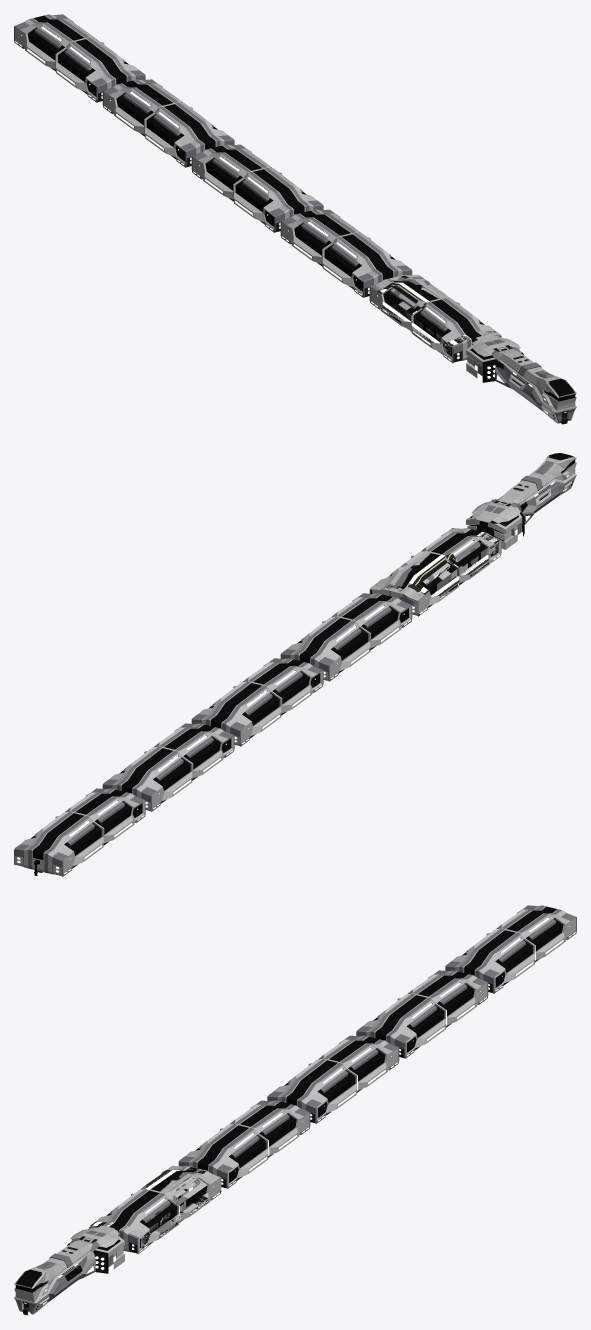
Rendered from TTrrain11.fbx.
3 views of the same model, one above another, from view 1: azimuth 30°, elevation 25°; view 2: azimuth 150°, elevation 25°; view 3: azimuth 330°, elevation 25° (orthographic).
Visible parts, largest first — view 1: Cube.023, Cube.035, Cube.024, Cube.034, Cube.039, Cube.022, Cube.002, Cube.008; view 2: Cube.034, Cube.024, Cube.035, Cube.023, Cube.022, Cube.039, Cube.002, Cube.014, Cube.008, Cube.010; view 3: Cube.023, Cube.035, Cube.024, Cube.034, Cube.039, Cube.022, Cube.002, Cube.008.
Boxes of the visible parts, x1,y1,x2,y2 form: Cube.023: [280, 209, 412, 297]; Cube.035: [102, 79, 234, 167]; Cube.024: [191, 144, 323, 232]; Cube.034: [14, 14, 145, 102]; Cube.039: [369, 275, 501, 362]; Cube.022: [369, 274, 499, 362]; Cube.002: [527, 370, 576, 410]; Cube.008: [495, 360, 527, 396]; Cube.034: [14, 788, 145, 876]; Cube.024: [191, 658, 323, 746]; Cube.035: [102, 723, 234, 811]; Cube.023: [280, 593, 412, 681]; Cube.022: [369, 528, 501, 616]; Cube.039: [371, 528, 501, 615]; Cube.002: [532, 453, 576, 484]; Cube.014: [466, 513, 522, 549]; Cube.008: [517, 485, 551, 524]; Cube.010: [472, 501, 520, 521]; Cube.023: [178, 1100, 310, 1188]; Cube.035: [356, 970, 488, 1058]; Cube.024: [267, 1035, 399, 1123]; Cube.034: [445, 905, 576, 993]; Cube.039: [89, 1166, 220, 1253]; Cube.022: [91, 1165, 221, 1253]; Cube.002: [14, 1261, 63, 1301]; Cube.008: [63, 1251, 95, 1287].
Bounding box in the file's own units: 2114 × 1333 × 33814.
Materials: 7 (7 with a texture image).
